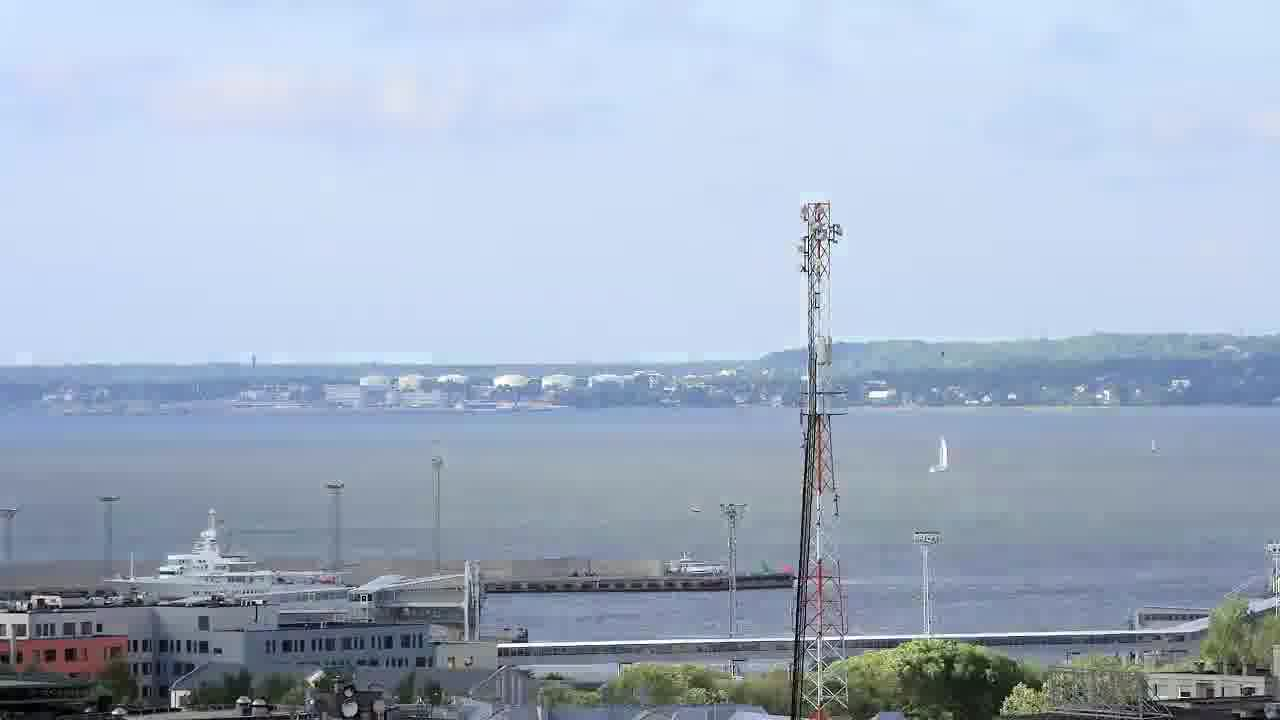type-2: (913, 426, 970, 487)
type-3: (84, 515, 355, 603)
